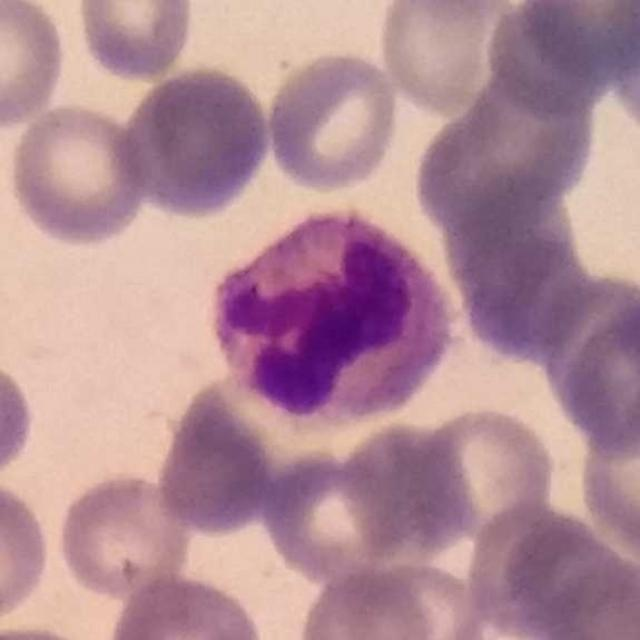Neutrophil: (200, 200, 464, 436)
RBC: (258, 431, 473, 590), (410, 66, 602, 239), (442, 189, 594, 364), (114, 61, 277, 220), (398, 402, 560, 542), (3, 99, 152, 249), (262, 47, 404, 196), (154, 385, 280, 540), (53, 469, 195, 602), (494, 517, 639, 639), (374, 0, 524, 116), (548, 285, 640, 458), (290, 560, 476, 640), (103, 570, 270, 640), (574, 392, 640, 564), (511, 0, 640, 86), (72, 0, 198, 83), (0, 0, 70, 130), (0, 475, 55, 632), (436, 603, 621, 640), (0, 350, 39, 488), (601, 1, 639, 141)
